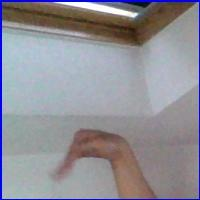A: (49, 128, 135, 186)
